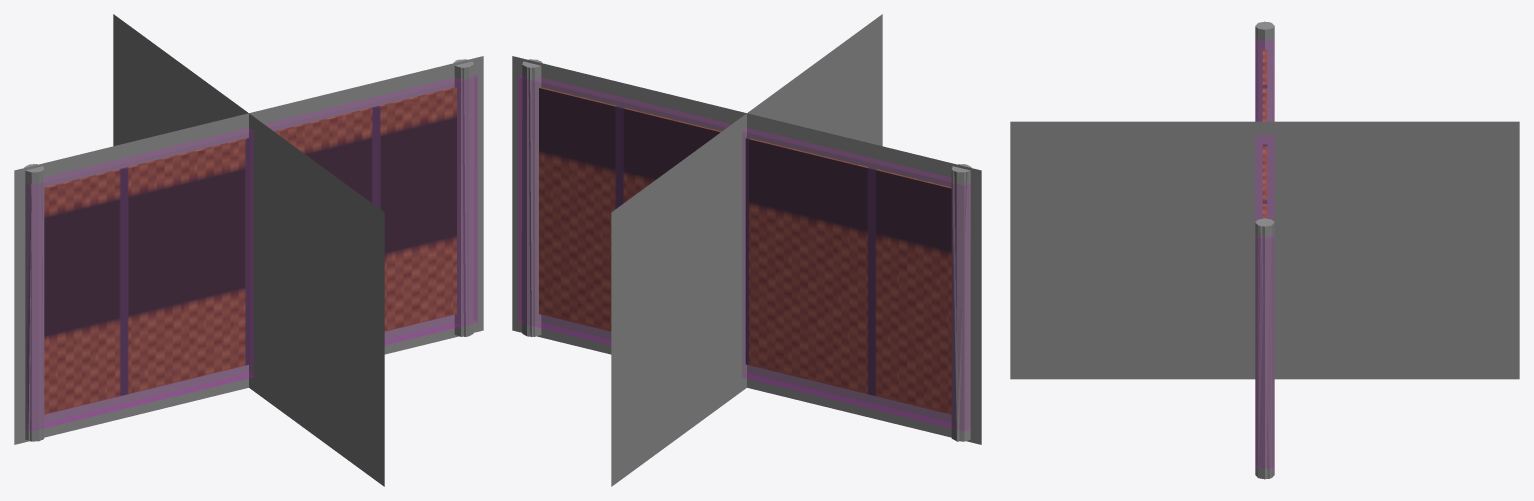
File: snowfence_wood_2m.dae
The picture shows the model from 3 angles, left to right: view 1: azimuth 30°, elevation 25°; view 2: azimuth 150°, elevation 25°; view 3: azimuth 270°, elevation 25°; orthographic projection. The views are drawn at different scales.
Parts seen in each view (by area): view 1: snowfence_wood_2m_a800, Colmesh_panel-1, snowfence_wood_2m_a50, snowfence_wood_2m_a200; view 2: snowfence_wood_2m_a800, Colmesh_panel-1, snowfence_wood_2m_a50, snowfence_wood_2m_a200; view 3: snowfence_wood_2m_a50, snowfence_wood_2m_a800, Colmesh_panel-1, snowfence_wood_2m_a200.
Boxes of the visible parts, <box> form: snowfence_wood_2m_a800: <box>24,59,473,441</box>; Colmesh_panel-1: <box>26,75,477,431</box>; snowfence_wood_2m_a50: <box>14,14,483,486</box>; snowfence_wood_2m_a200: <box>27,59,474,441</box>; snowfence_wood_2m_a800: <box>522,59,971,441</box>; Colmesh_panel-1: <box>518,74,969,431</box>; snowfence_wood_2m_a50: <box>512,14,981,486</box>; snowfence_wood_2m_a200: <box>521,60,970,441</box>; snowfence_wood_2m_a50: <box>1010,121,1519,379</box>; snowfence_wood_2m_a800: <box>1255,21,1274,479</box>; Colmesh_panel-1: <box>1255,39,1274,467</box>; snowfence_wood_2m_a200: <box>1255,22,1274,478</box>.
Size of the model in its own units: 2.1 by 2.1 by 1.17.
3 materials, 1 textured.
